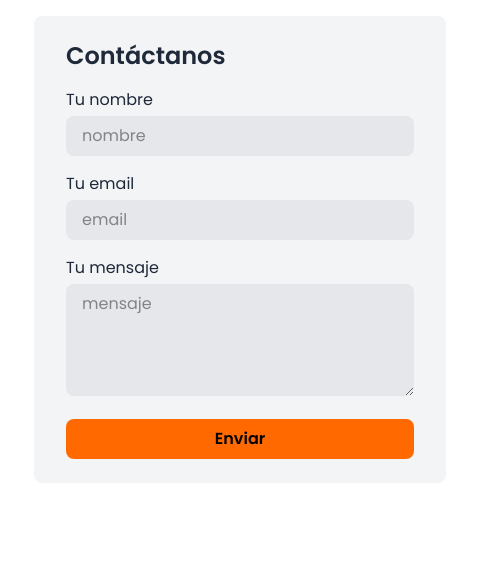
Test: Contact › muestra un error genérico si el envío falla
The width and height of the screenshot is (481, 576).
Type "Ana" into the field labelled "Tu nombre".
click(240, 136); type("Ana")  # box [66, 116, 414, 156]
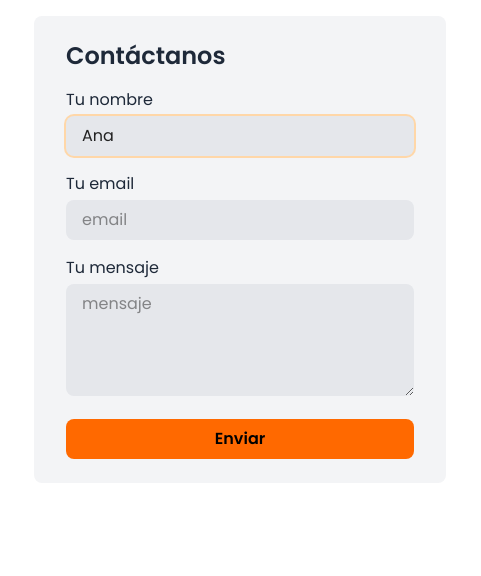
Type "ana@example.com" into the field labelled "Tu email".
click(240, 220); type("ana@example.com")  # box [66, 200, 414, 240]
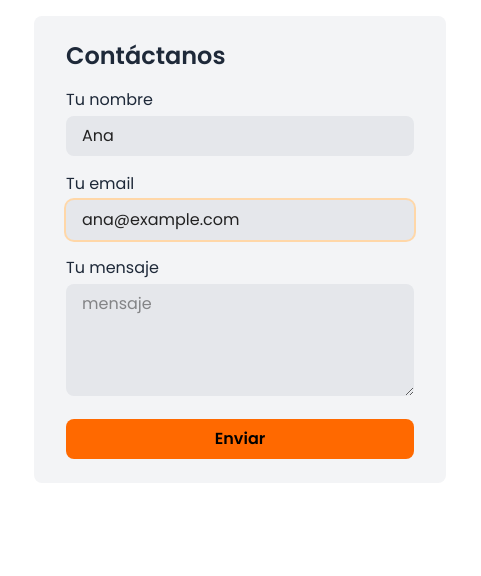
Type "Hola, quiero colaborar" into the text box labelled "Tu mensaje".
click(240, 340); type("Hola, quiero colaborar")  # box [66, 284, 414, 396]
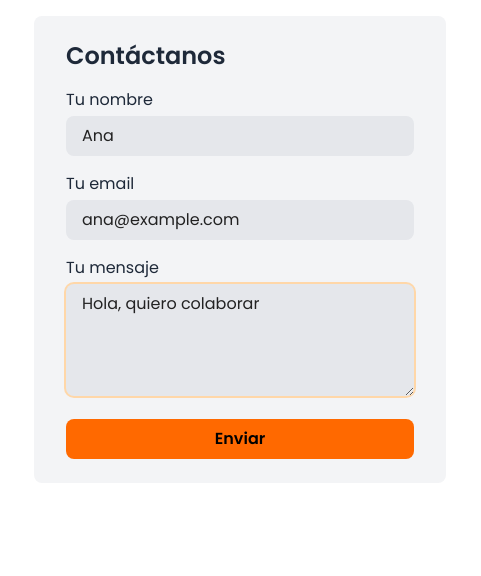
Click the button "Enviar".
click(240, 439)  # box [66, 419, 414, 459]
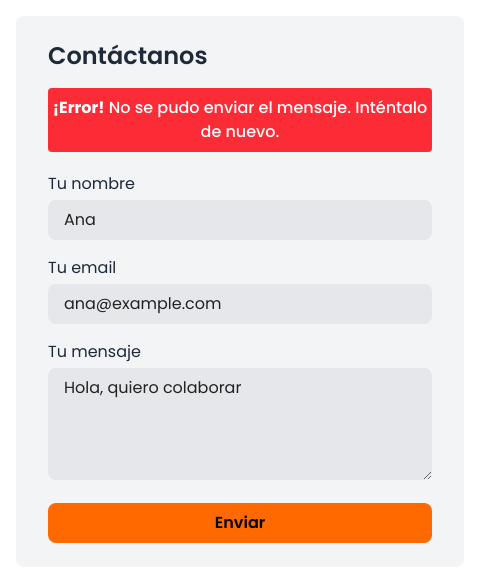
Check: the message shows "No se pudo enviar el mensaje. Inténtalo de nuevo.", box [109, 96, 427, 143]
